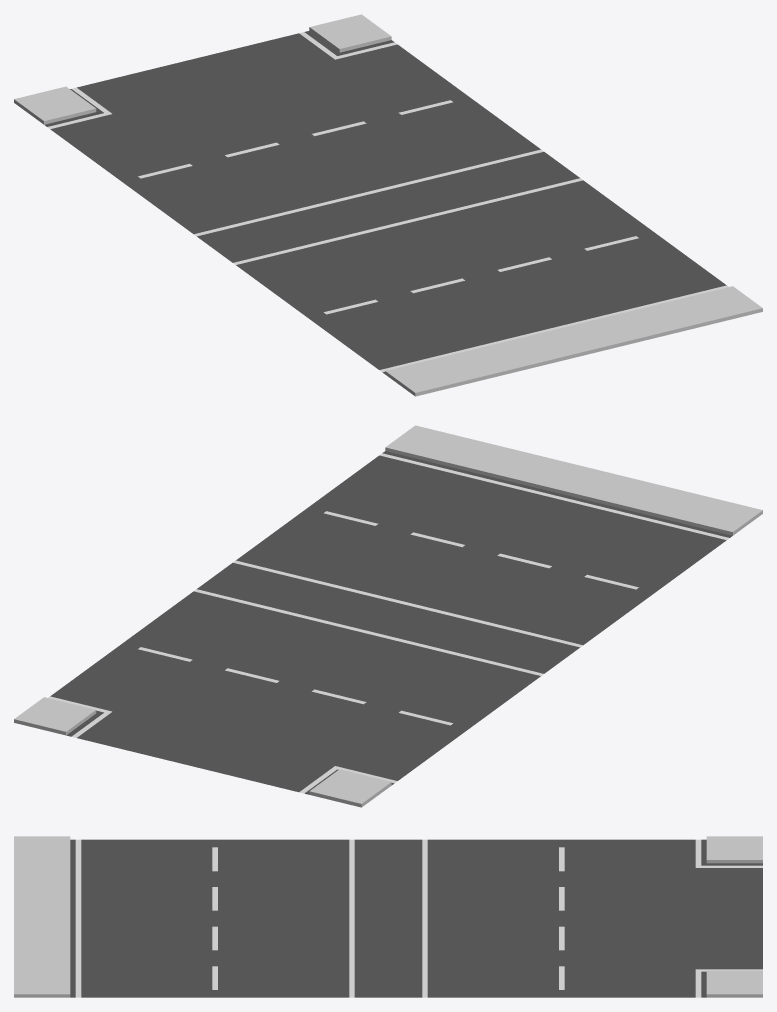
File: SPW_Urban_Road 4way_05.gltf
3 views of the same model, one above another, from view 1: azimuth 30°, elevation 25°; view 2: azimuth 150°, elevation 25°; view 3: azimuth 270°, elevation 25° (orthographic). The views are drawn at different scales.
Parts seen in each view (by area): view 1: SPW_Urban_Road_4way_05; view 2: SPW_Urban_Road_4way_05; view 3: SPW_Urban_Road_4way_05.
Part boxes in pixels (x1,y1,x2,y2): SPW_Urban_Road_4way_05: [14, 14, 762, 396]; SPW_Urban_Road_4way_05: [14, 425, 762, 807]; SPW_Urban_Road_4way_05: [14, 836, 762, 997].
Size of the model in its own units: 787 by 7.87 by 1575.
1 material, 1 textured.
